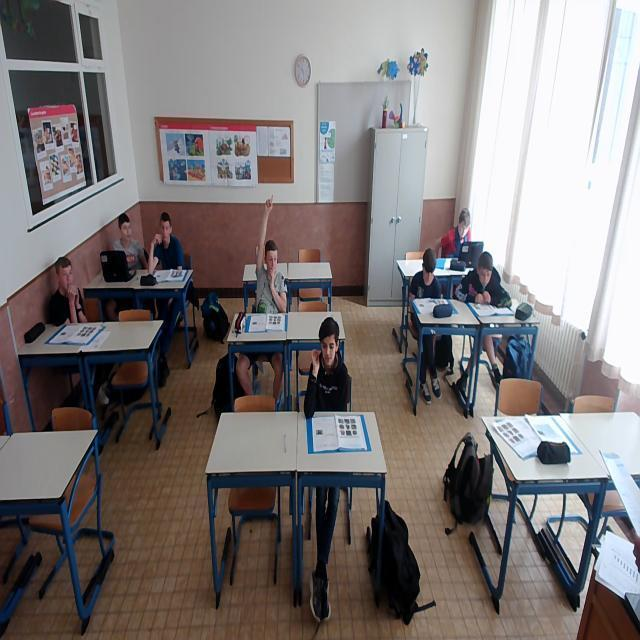Looking away: (321, 320, 338, 368), (422, 254, 436, 287), (118, 213, 133, 243), (158, 212, 171, 244), (457, 211, 472, 237)
Looking forward: (57, 256, 74, 290)
Raising hand: (248, 188, 293, 312)
Reading-writing: (456, 251, 515, 314)
